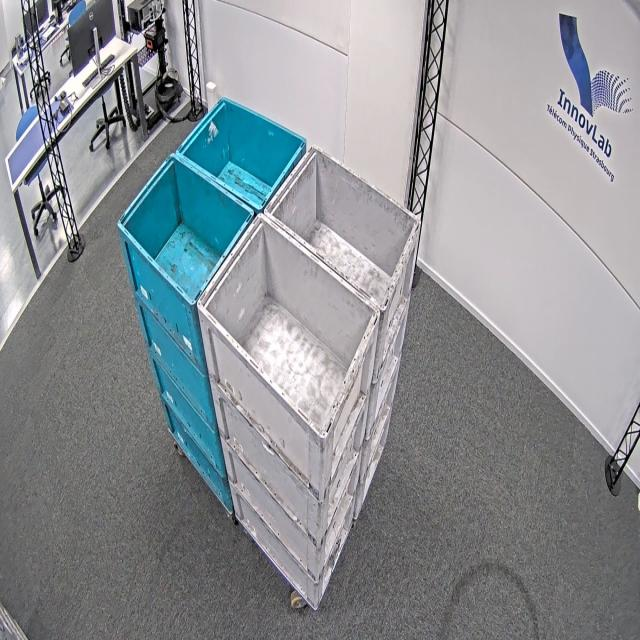Roll4G: (197, 211, 380, 440), (262, 141, 423, 313)
RollB4: (116, 152, 256, 308), (175, 94, 308, 213)
